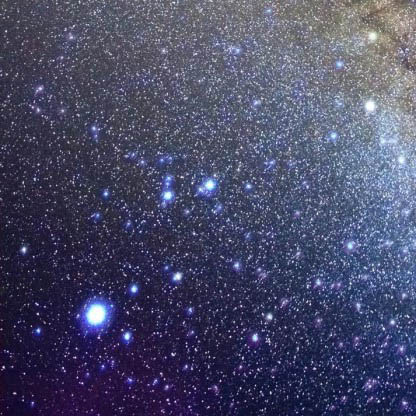Lyra: (69, 293, 114, 332), (194, 169, 227, 198), (118, 324, 145, 351), (150, 183, 177, 209), (122, 276, 146, 301), (163, 264, 190, 286)
